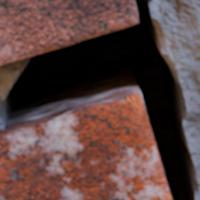brick: (0, 93, 170, 199), (0, 0, 137, 64)
crack: (0, 0, 197, 199)
